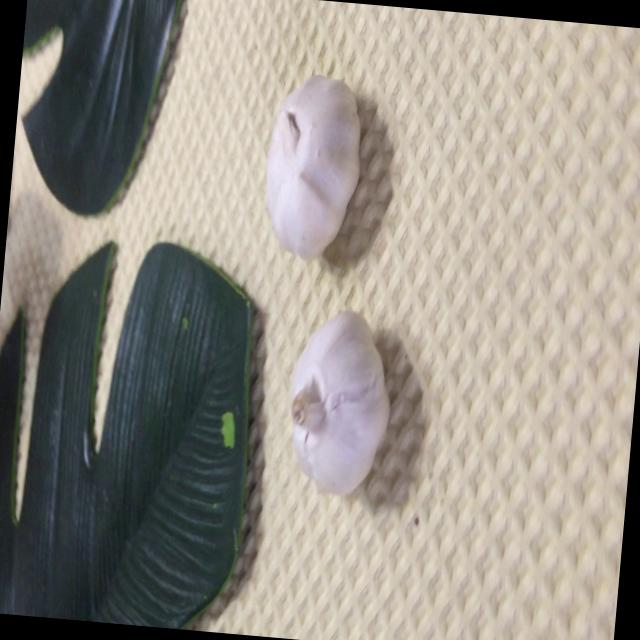bawang: (274, 296, 400, 502), (254, 63, 371, 265)
